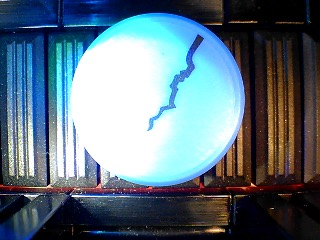CRACK: (69, 12, 245, 187)
